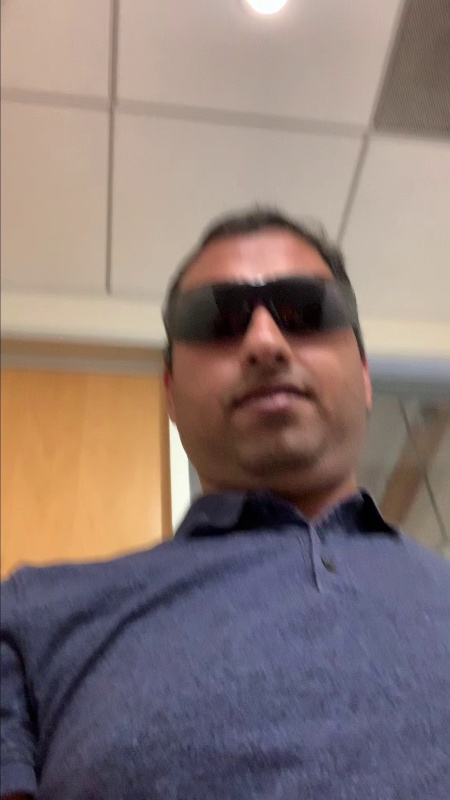glasses: (144, 270, 359, 350)
